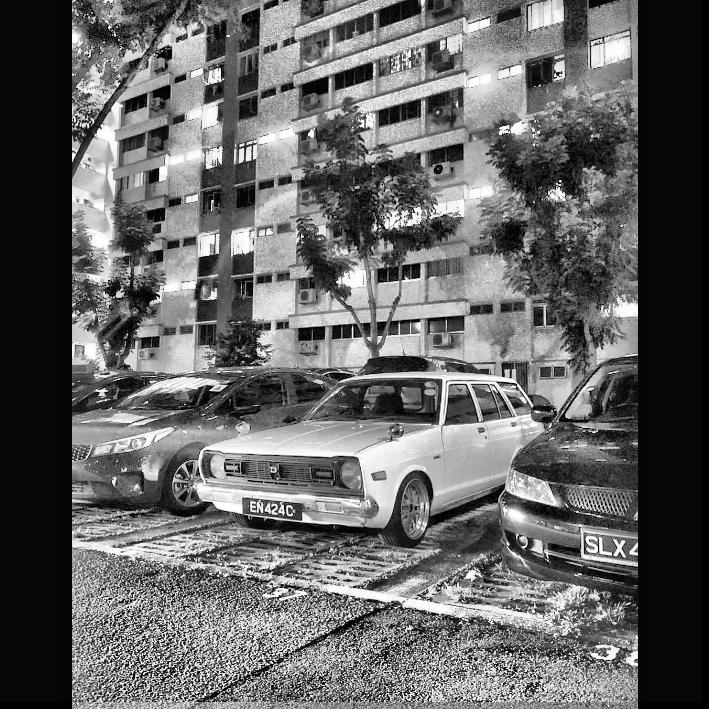License-Plates: (583, 532, 638, 562), (242, 497, 301, 520)
